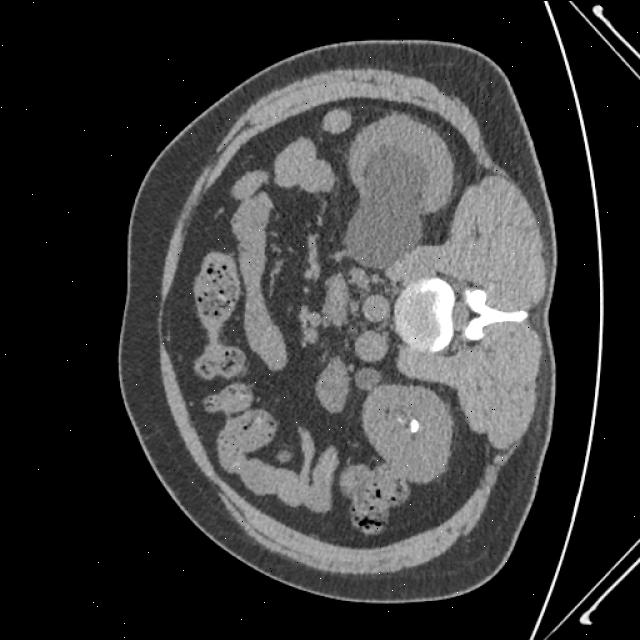kidneystone: (411, 418, 419, 432)
